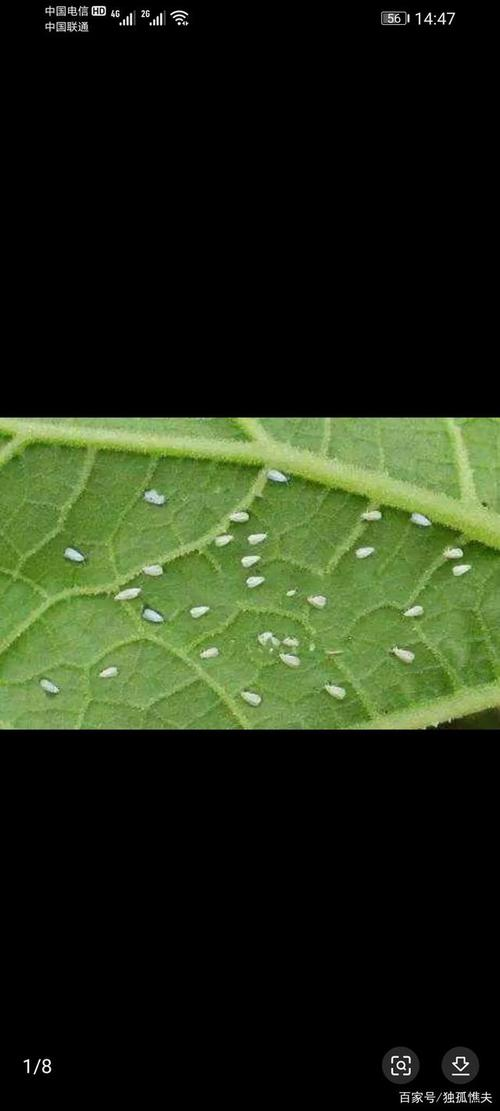Delphacidae: (389, 645, 415, 664), (323, 683, 346, 701), (240, 690, 262, 708), (113, 587, 141, 601), (141, 607, 164, 624), (61, 546, 85, 562), (38, 678, 60, 695), (408, 511, 432, 526), (188, 605, 211, 620), (141, 563, 164, 578), (359, 509, 383, 522), (96, 666, 119, 679), (402, 605, 425, 618), (451, 564, 474, 577), (239, 555, 261, 568), (265, 469, 287, 482), (245, 576, 265, 590), (354, 547, 375, 560), (214, 534, 233, 548), (228, 511, 250, 523), (199, 648, 219, 661), (442, 547, 462, 560), (246, 533, 266, 545)
